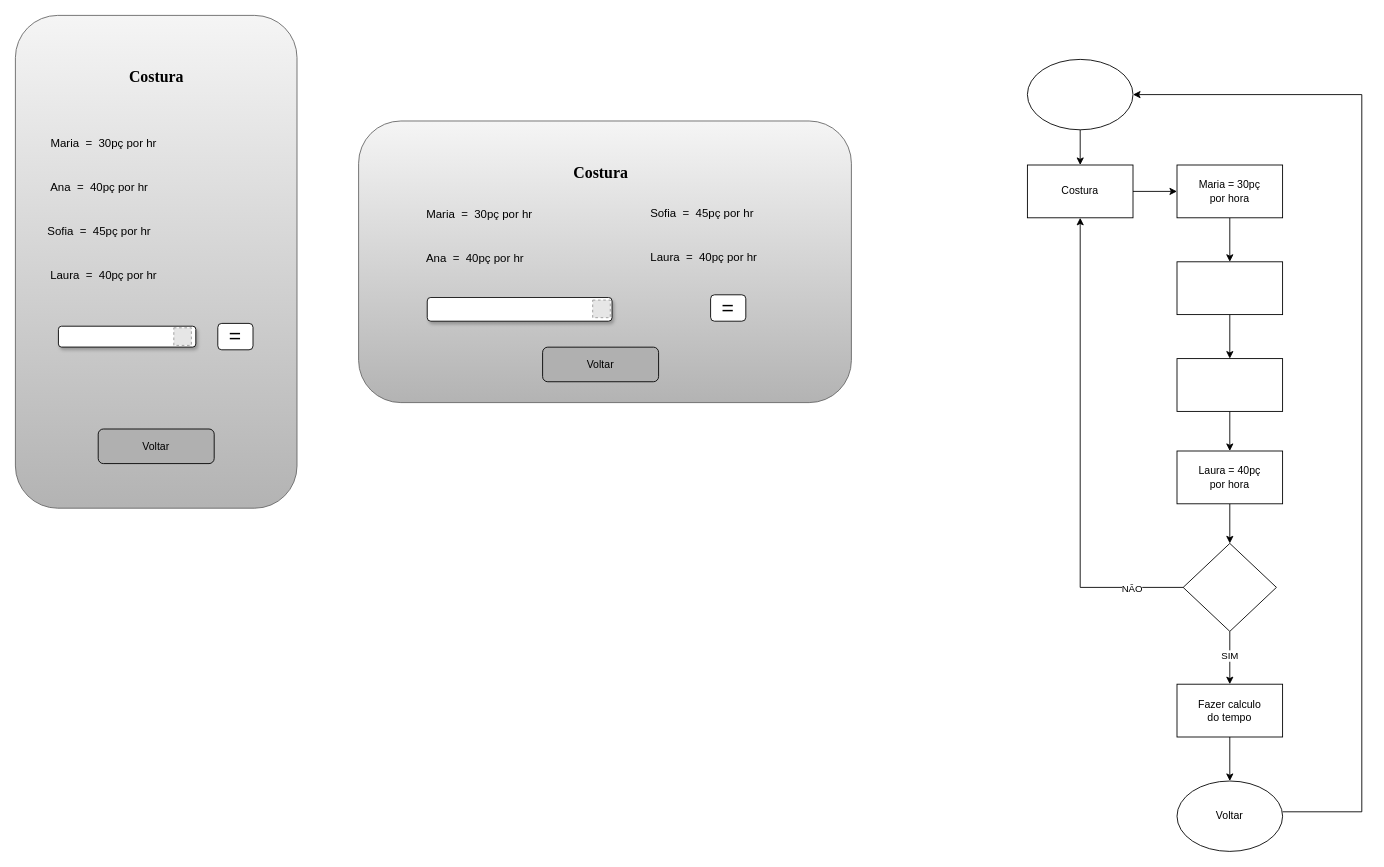
Some shapes in this 1384 by 867 pixel diagram are drawn without their labels. Grey dashed boxes stand in for pictures. Each missing label, with the centre of its shape:
Ana = 40pç por hora: the point at 1229,384
Informações corretas?: the point at 1229,587
Início: the point at 1080,94
Sofia = 45pç por hora: the point at 1229,288
